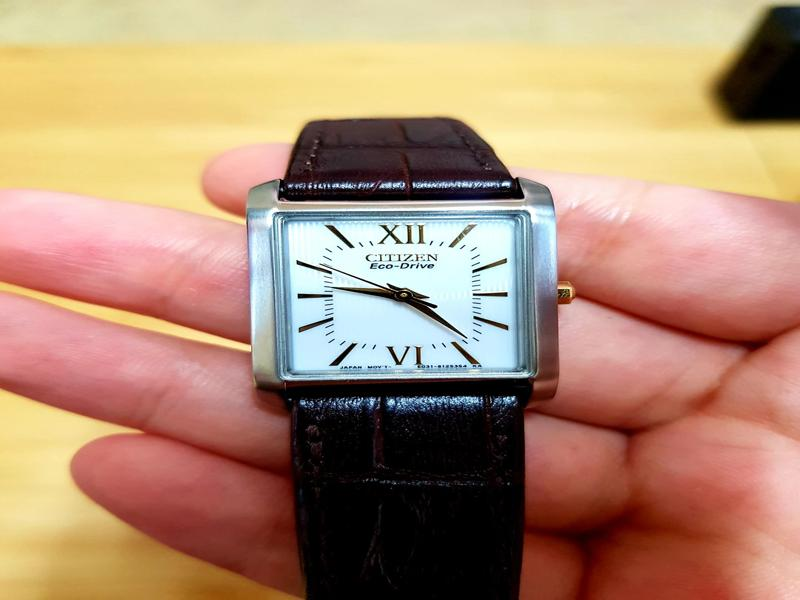watch: (243, 106, 576, 566)
